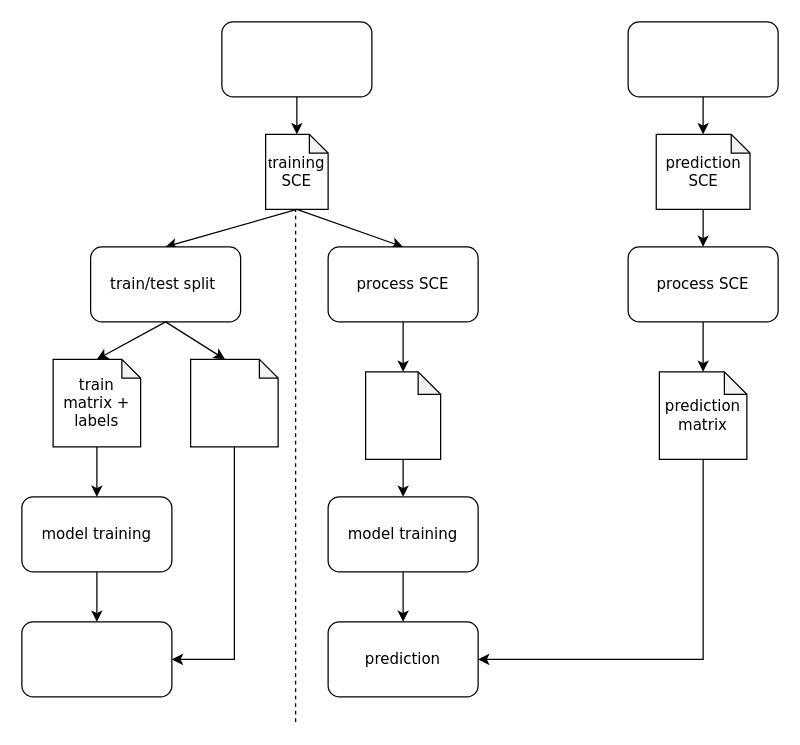
The diagram is 800 pixels wide and 745 high, and some of its shapes have lost their labels. Each missing label, with the box of its shape:
model evaluation: (21, 621, 172, 697)
read prediction 10X: (627, 21, 778, 97)
read training 10X: (221, 21, 372, 97)
test matrix + labels: (189, 358, 278, 447)
train labels + matrix: (364, 371, 441, 459)
